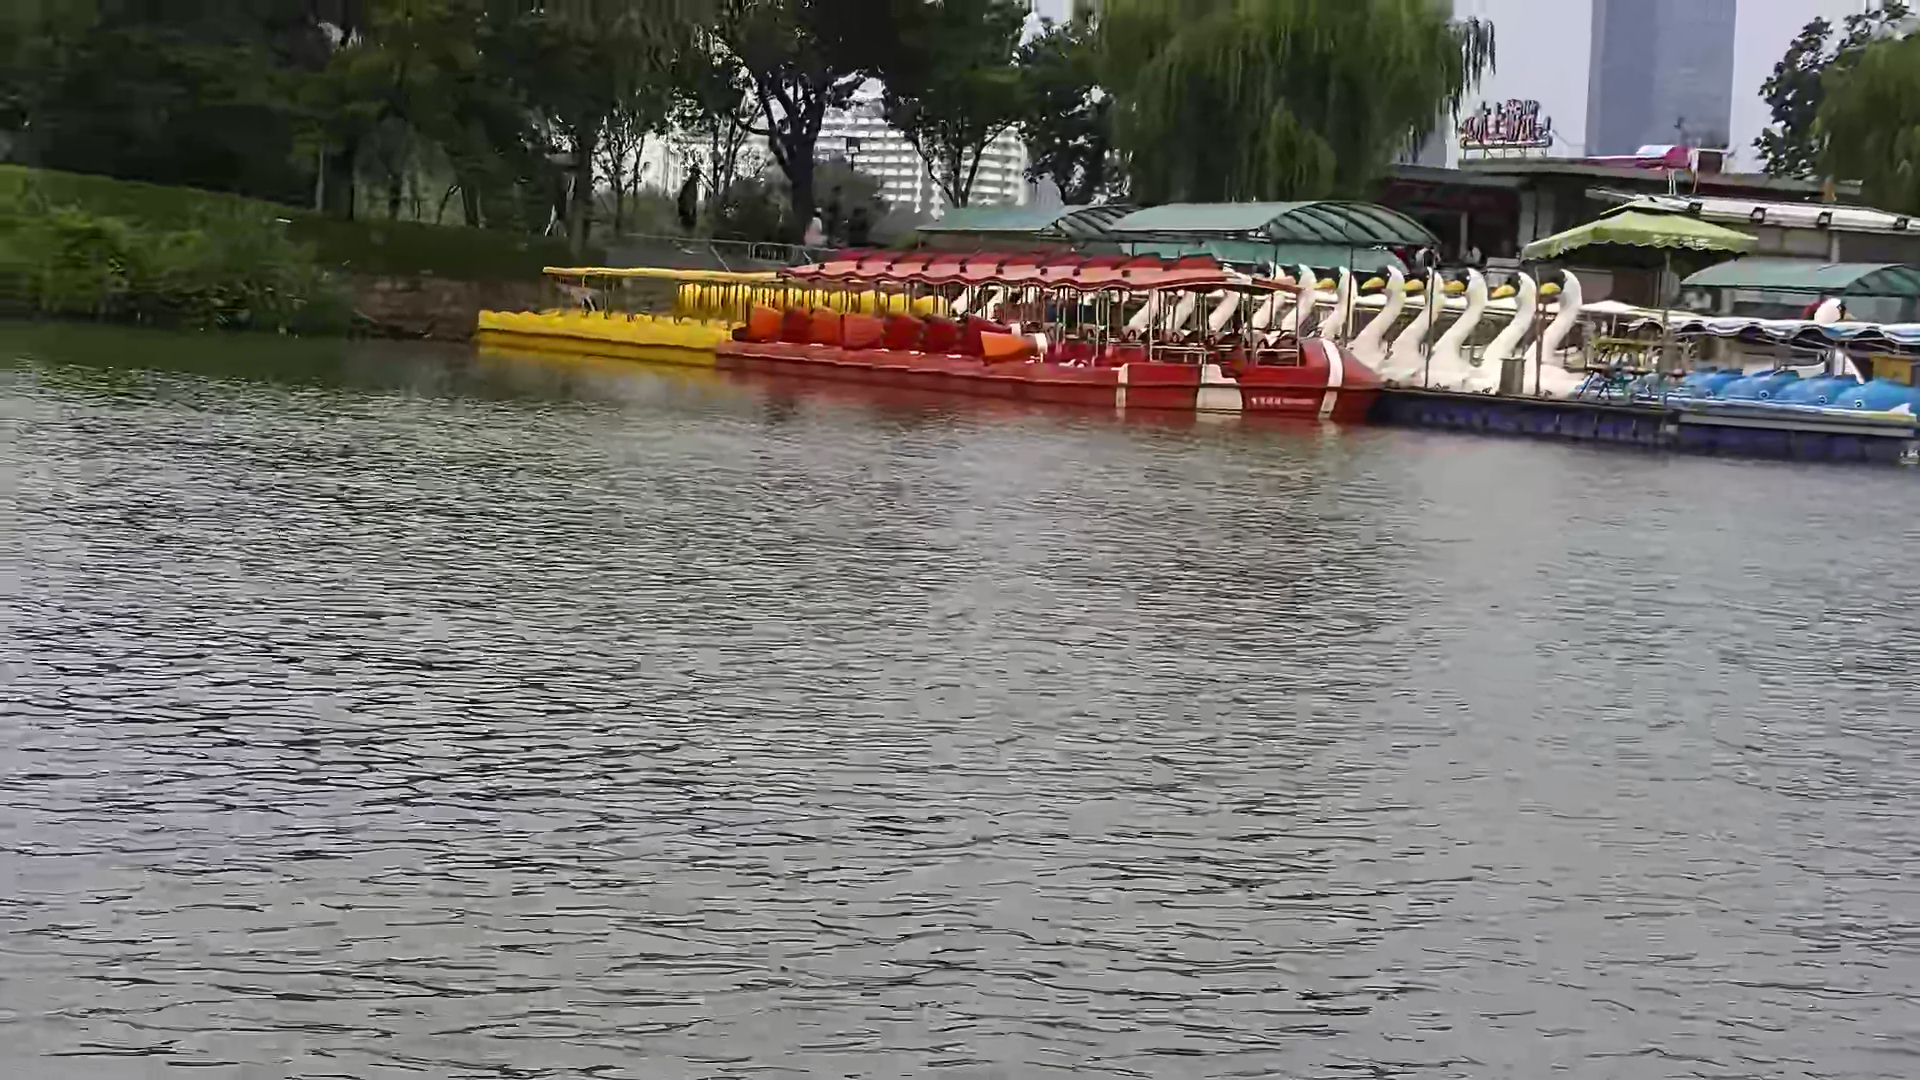harbor: (464, 193, 1917, 465)
